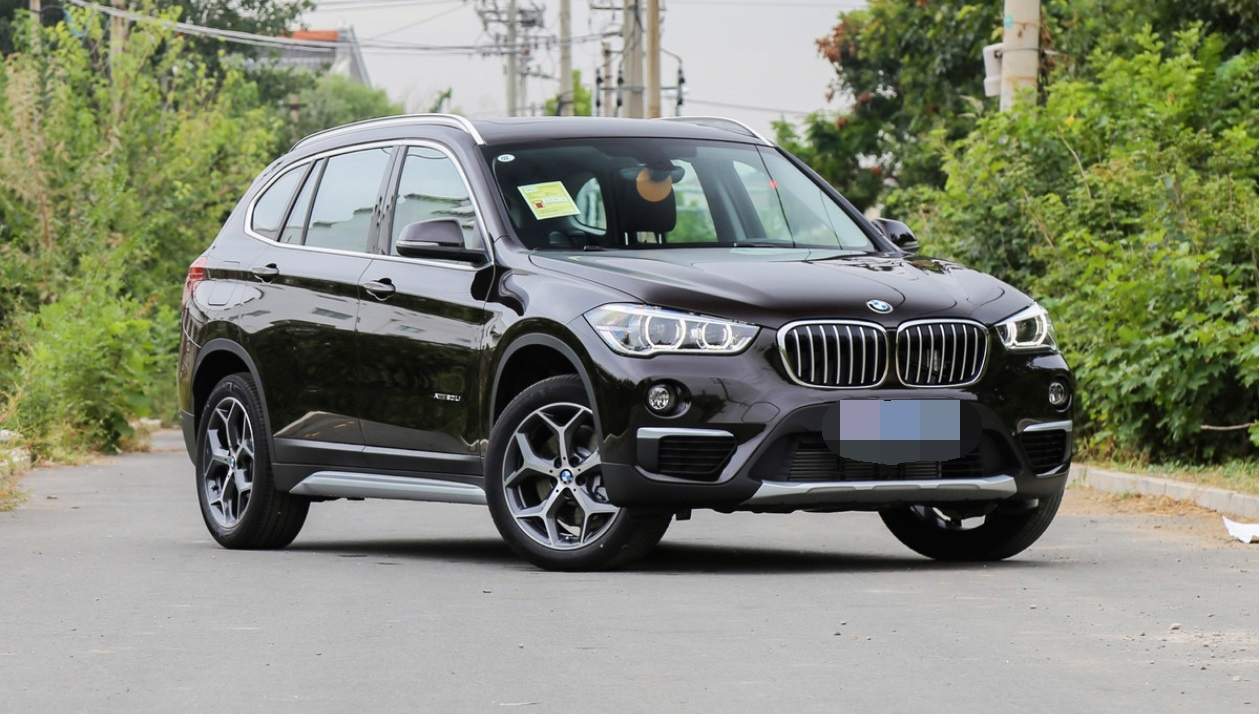SUV: (166, 92, 1082, 573)
